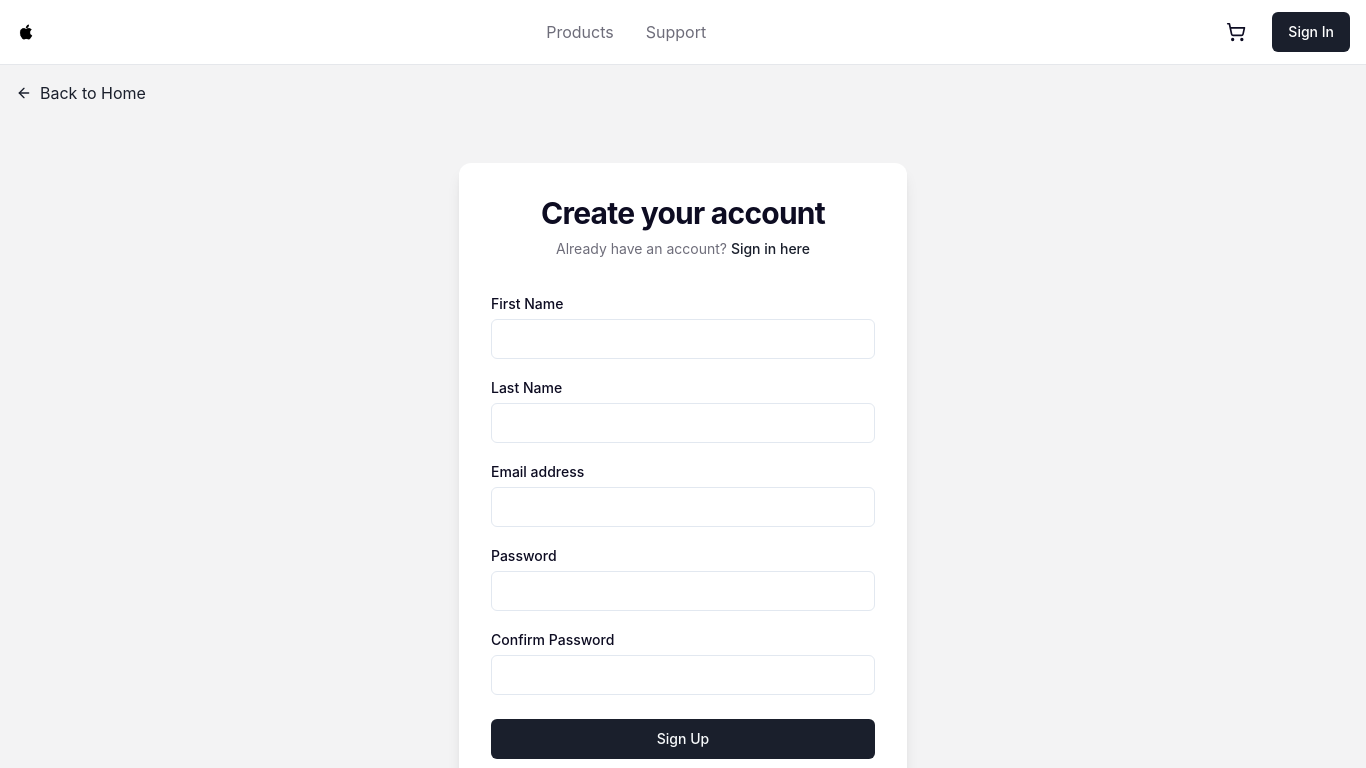
Test: Signup Page Test › Should display an error message if all email, password, firstName, lastName, and passwordConfirm are not entered.
Click the submit button at (683, 739), box [491,719,875,759]
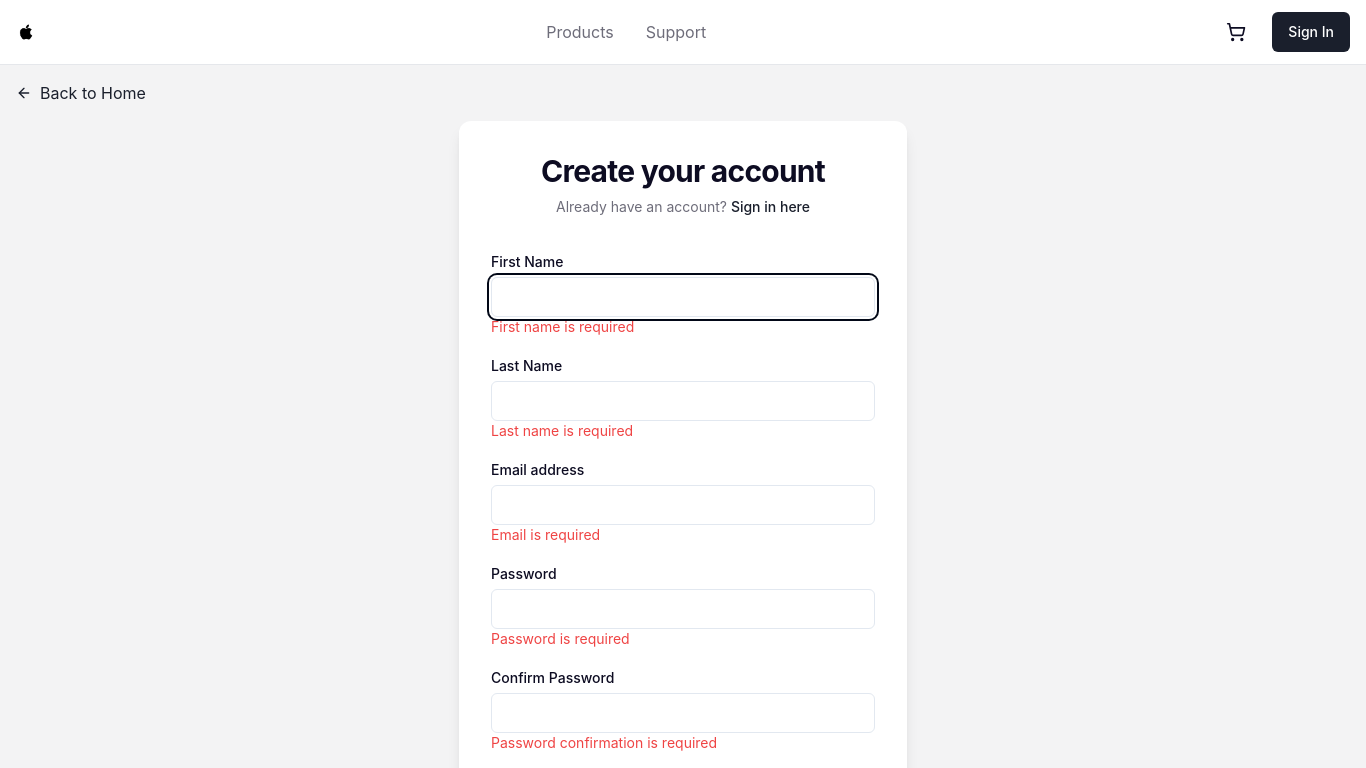
expect the text "Password is required" is shown: met, box [491,630,630,647]
expect the text "Email is required" is shown: met, box [491,526,600,543]
expect the text "Last name is required" is shown: met, box [491,422,633,439]
